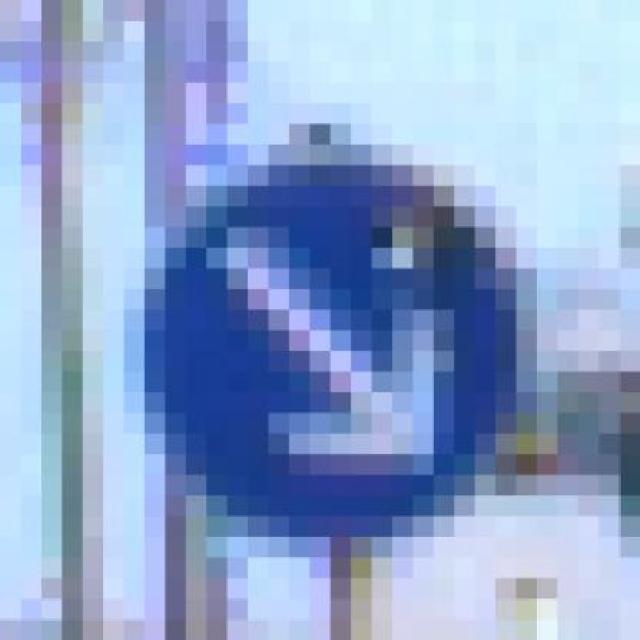Keep-Right: (103, 124, 537, 558)
